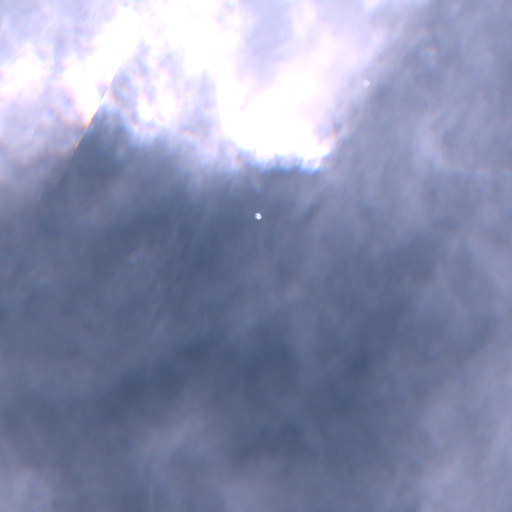Iceberg: (255, 213, 261, 219), (364, 80, 369, 86)
